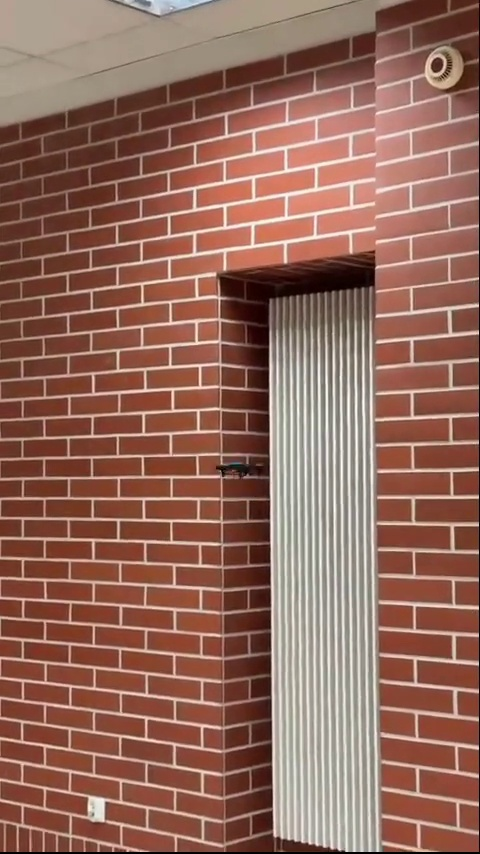drone: (217, 457, 269, 481)
